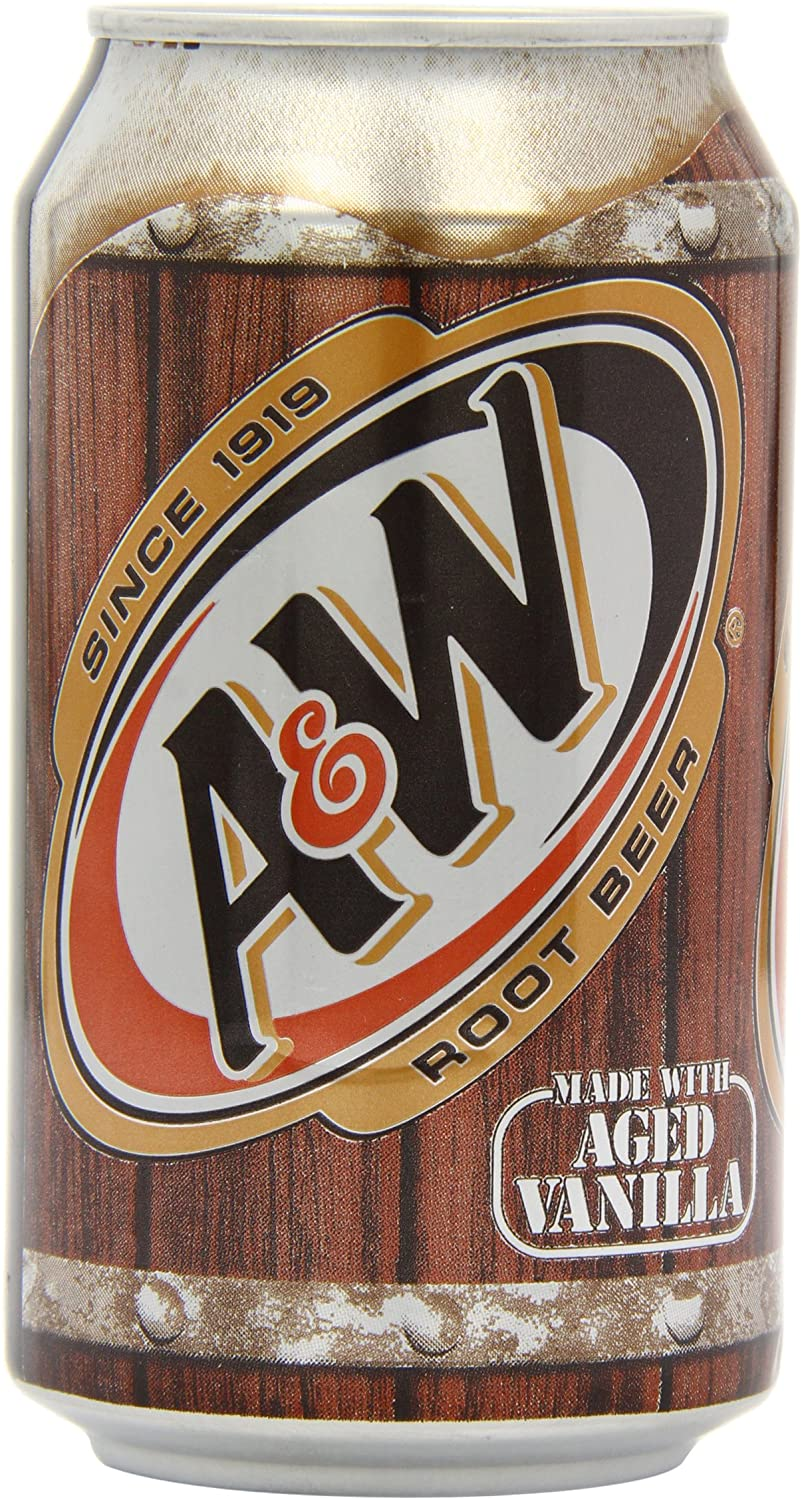Can: (19, 11, 787, 1478)
